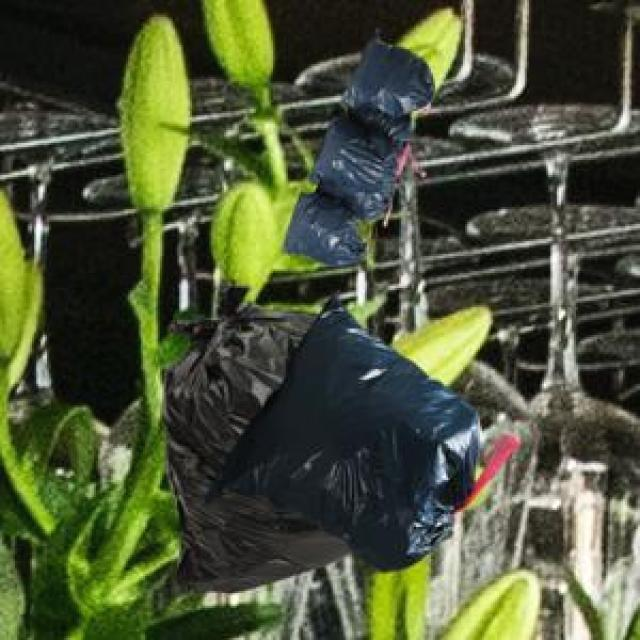Trashbag: (249, 327, 474, 555), (348, 33, 436, 128), (316, 120, 396, 202), (293, 197, 358, 271)
